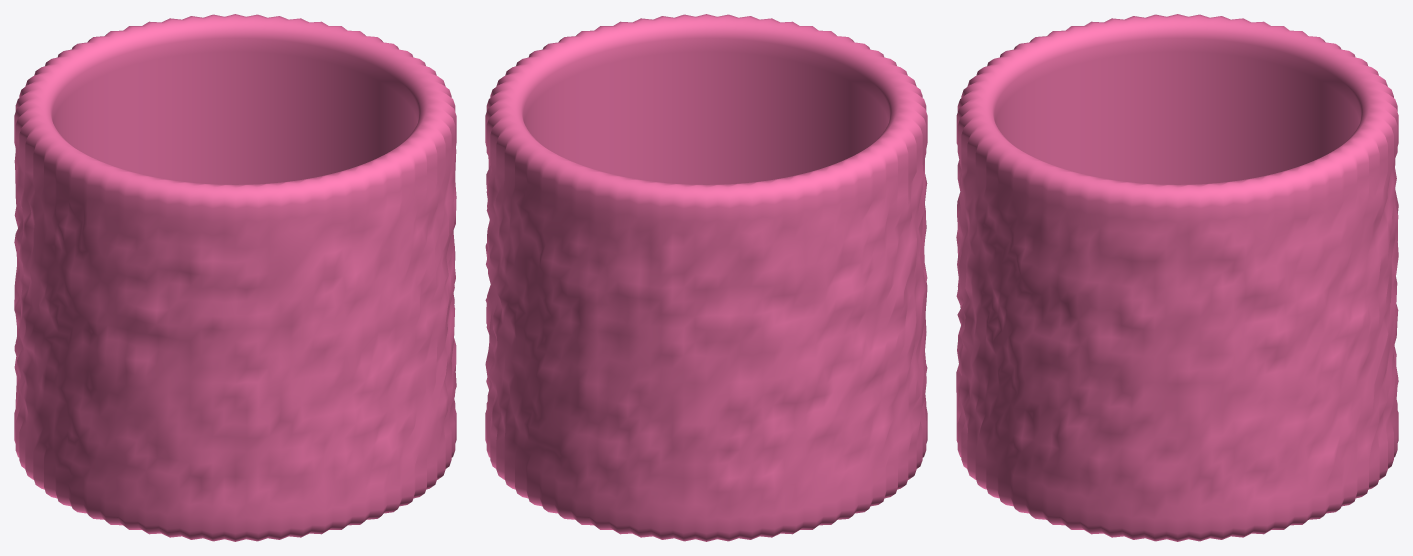
The model's file is wrist_pink.glb.
The picture shows the model from 3 angles, left to right: view 1: azimuth 30°, elevation 25°; view 2: azimuth 150°, elevation 25°; view 3: azimuth 270°, elevation 25°; orthographic projection.
Parts seen in each view (by area): view 1: wrist_pink; view 2: wrist_pink; view 3: wrist_pink.
Part boxes in pixels (bbox=[...]): wrist_pink: bbox=[14, 14, 456, 541]; wrist_pink: bbox=[485, 14, 927, 541]; wrist_pink: bbox=[956, 14, 1398, 541].
Bounding box in the file's own units: 0.0642 × 0.0564 × 0.0642.
